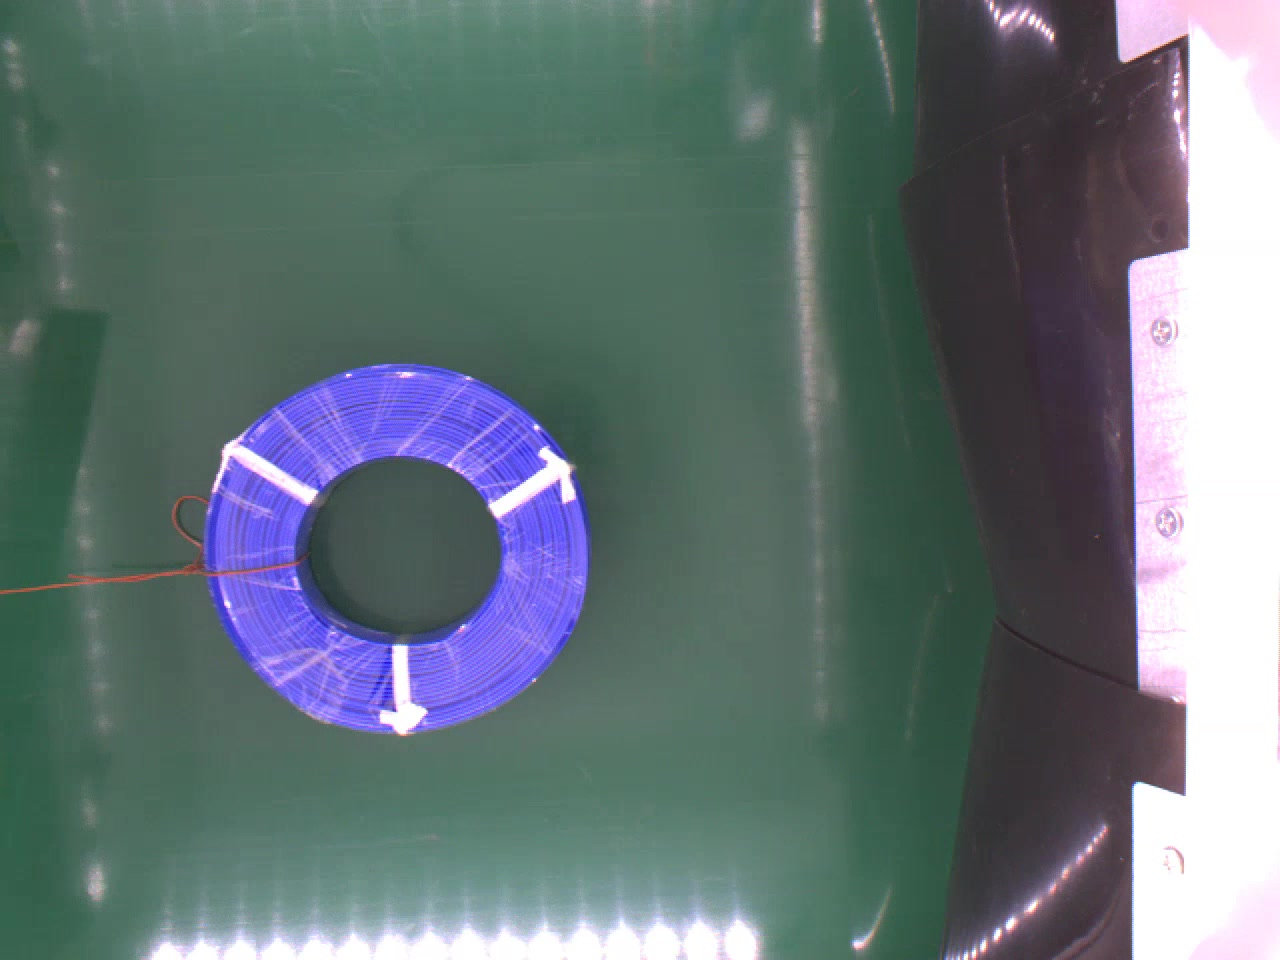blue: (196, 355, 591, 735)
